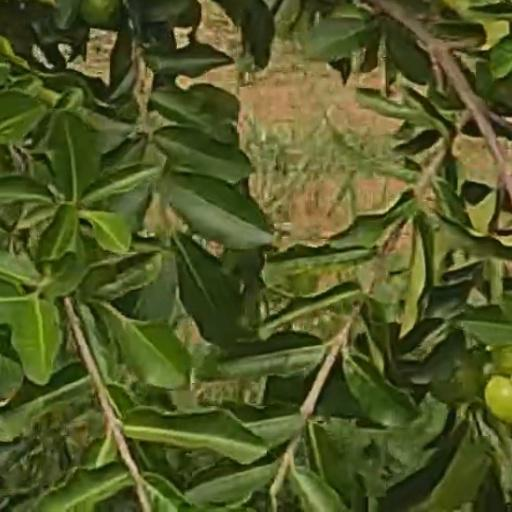acerola_verde: (484, 376, 512, 423)
